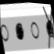correct: (13, 20, 26, 43)
no answer: (29, 19, 40, 41), (0, 21, 10, 43)
not correct: (40, 4, 54, 51)
